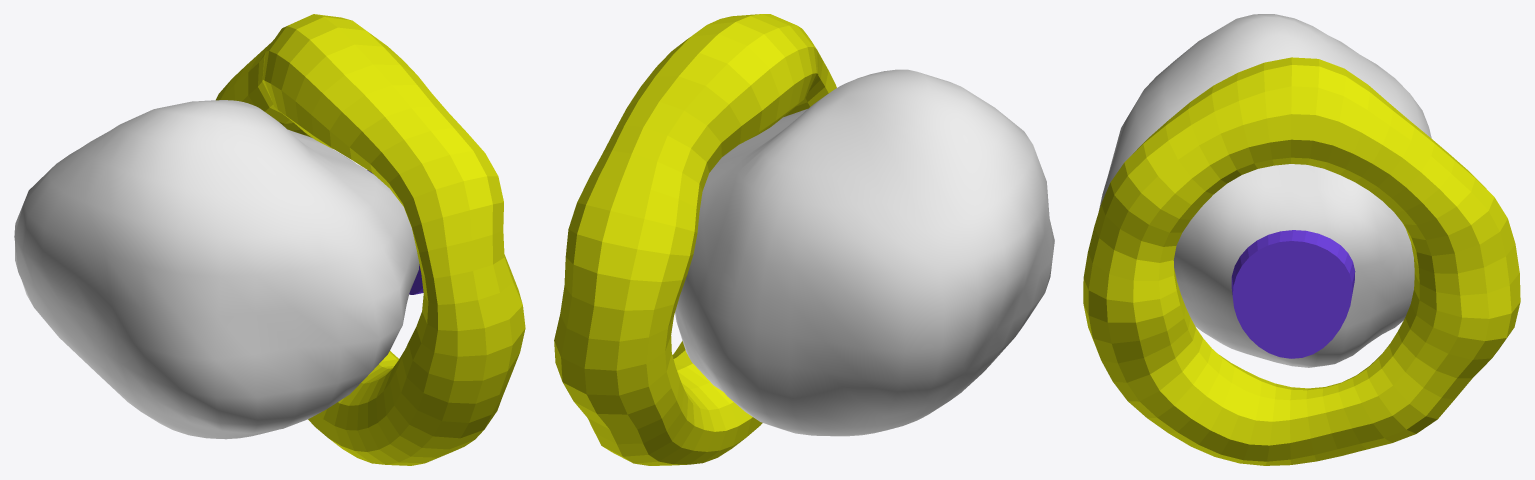
File: Blob Shooter.fbx
The picture shows the model from 3 angles, left to right: view 1: azimuth 30°, elevation 25°; view 2: azimuth 150°, elevation 25°; view 3: azimuth 270°, elevation 25°; orthographic projection. The views are drawn at different scales.
Visible parts, largest first — view 1: Sphere; view 2: Sphere; view 3: Sphere.
Part boxes in pixels (x1,y1,x2,y2): Sphere: (14, 14, 525, 465); Sphere: (554, 14, 1054, 465); Sphere: (1083, 14, 1520, 465).
Bounding box in the file's own units: 112 × 118 × 122.
